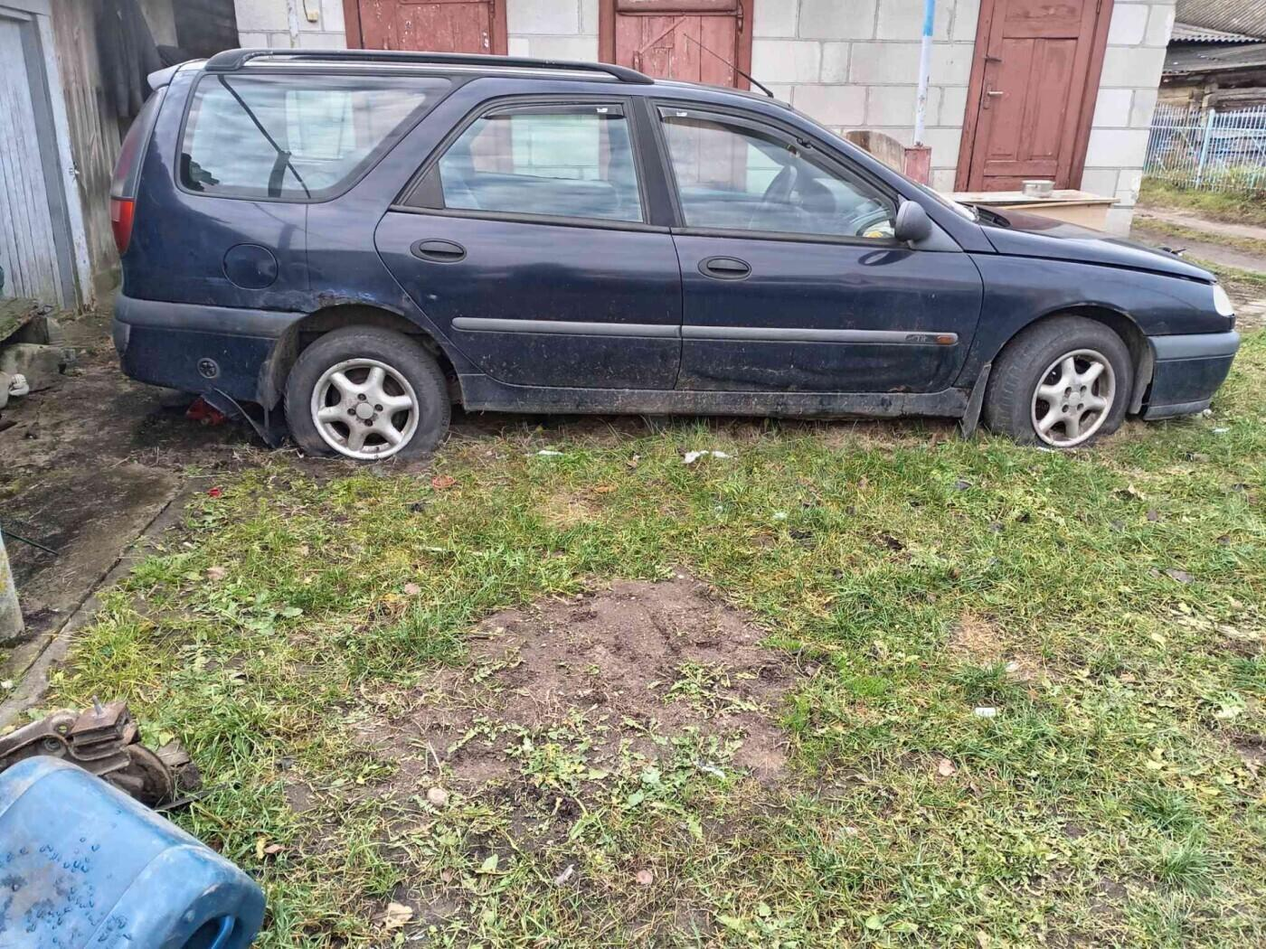Lahuna_1993-1999: (106, 39, 1254, 497)
